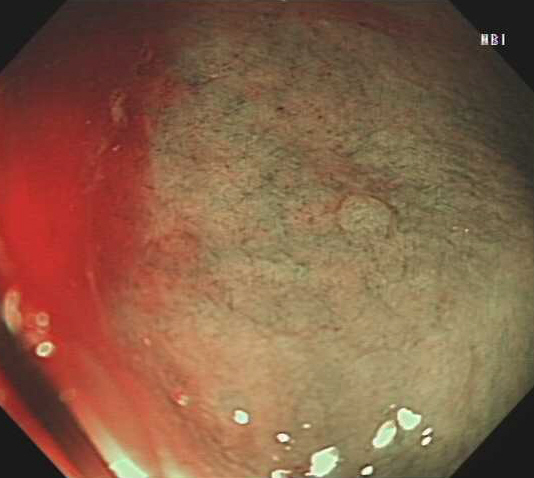others: (330, 192, 396, 241)
